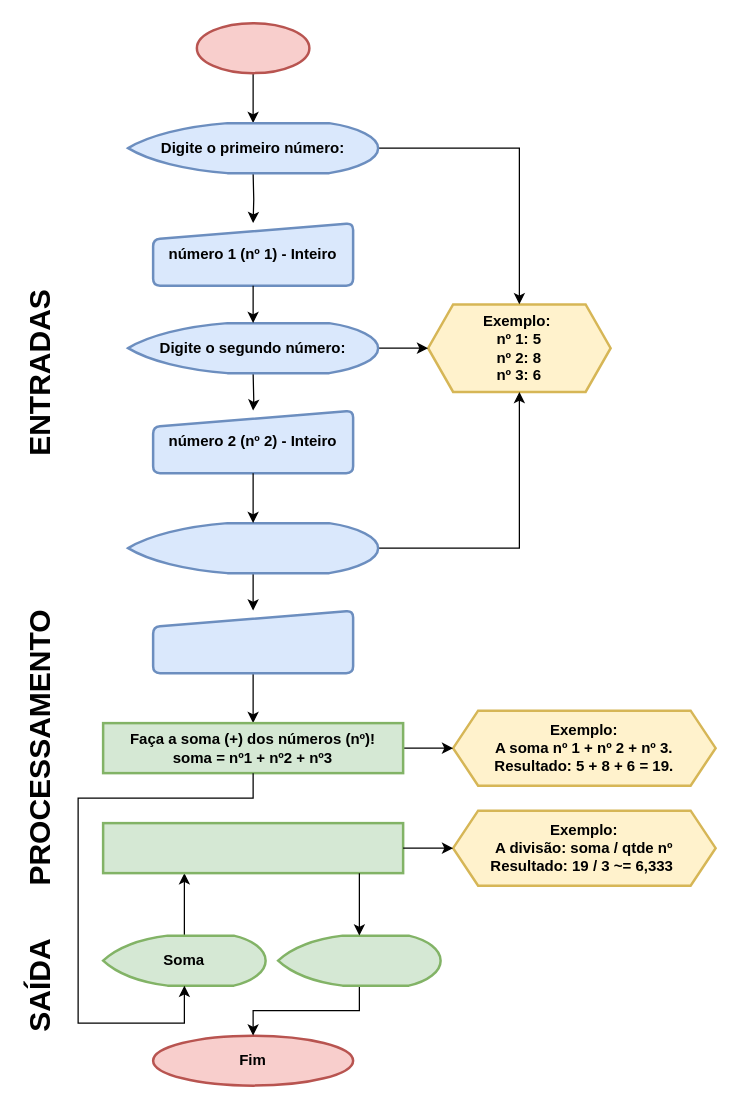
Image size: 738x1108. Some labels were removed from this diagram. The shapes that lost their labels are listed below. From the top down, each one's centre as x and y in pixels, then its label:
At (x=252, y=47): "Início".
At (x=252, y=547): "Digite o terceiro número:".
At (x=252, y=641): "número 3 (nº 3) - Inteiro".
At (x=252, y=847): "Faça a divisão (/) com números (nº)! divisão = soma / total_nº".
At (x=358, y=960): "Divisão".
